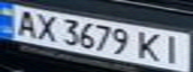3: (57, 16, 81, 47)
6: (75, 20, 96, 51)
7: (90, 22, 112, 54)
9: (109, 25, 133, 57)
A: (9, 7, 42, 38)
I: (157, 33, 190, 65)
K: (136, 29, 166, 63)
X: (30, 11, 60, 43)
